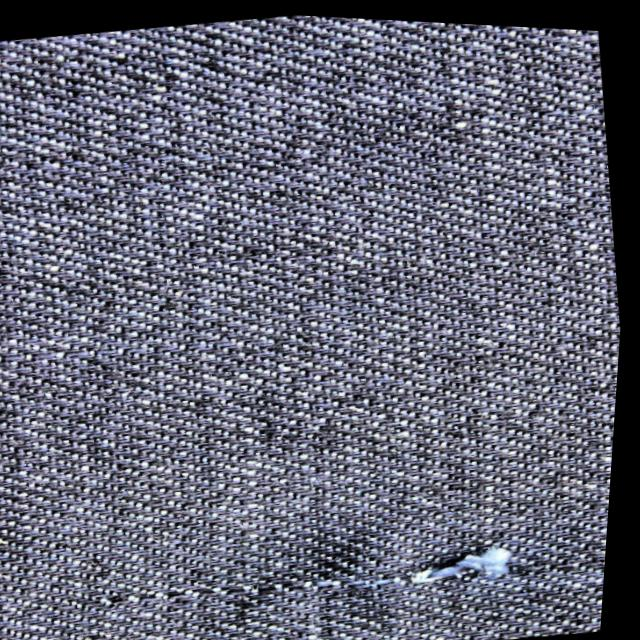Hole: (68, 538, 323, 635)
Stitch: (388, 511, 551, 607)
